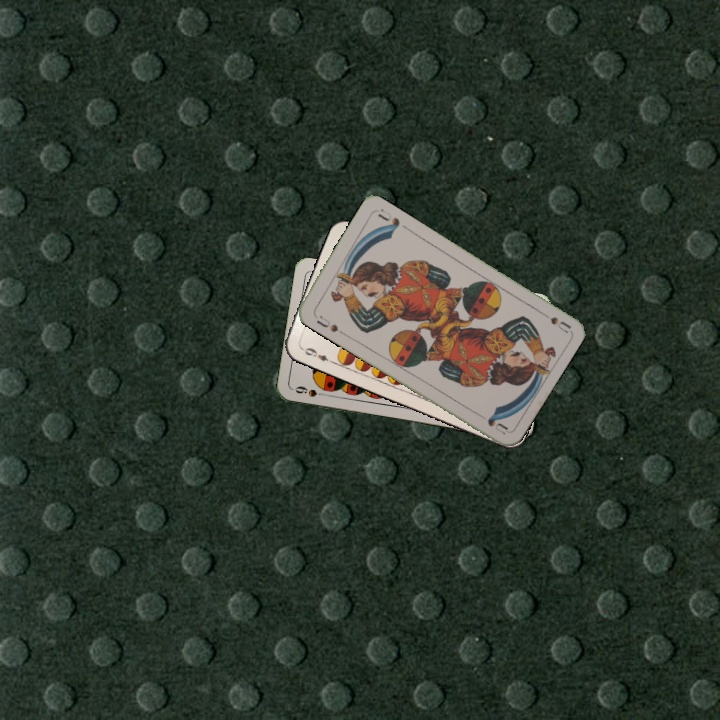E9: (297, 343, 335, 365)
S9: (291, 382, 331, 400)
SU: (534, 306, 572, 335), (312, 312, 341, 335)
